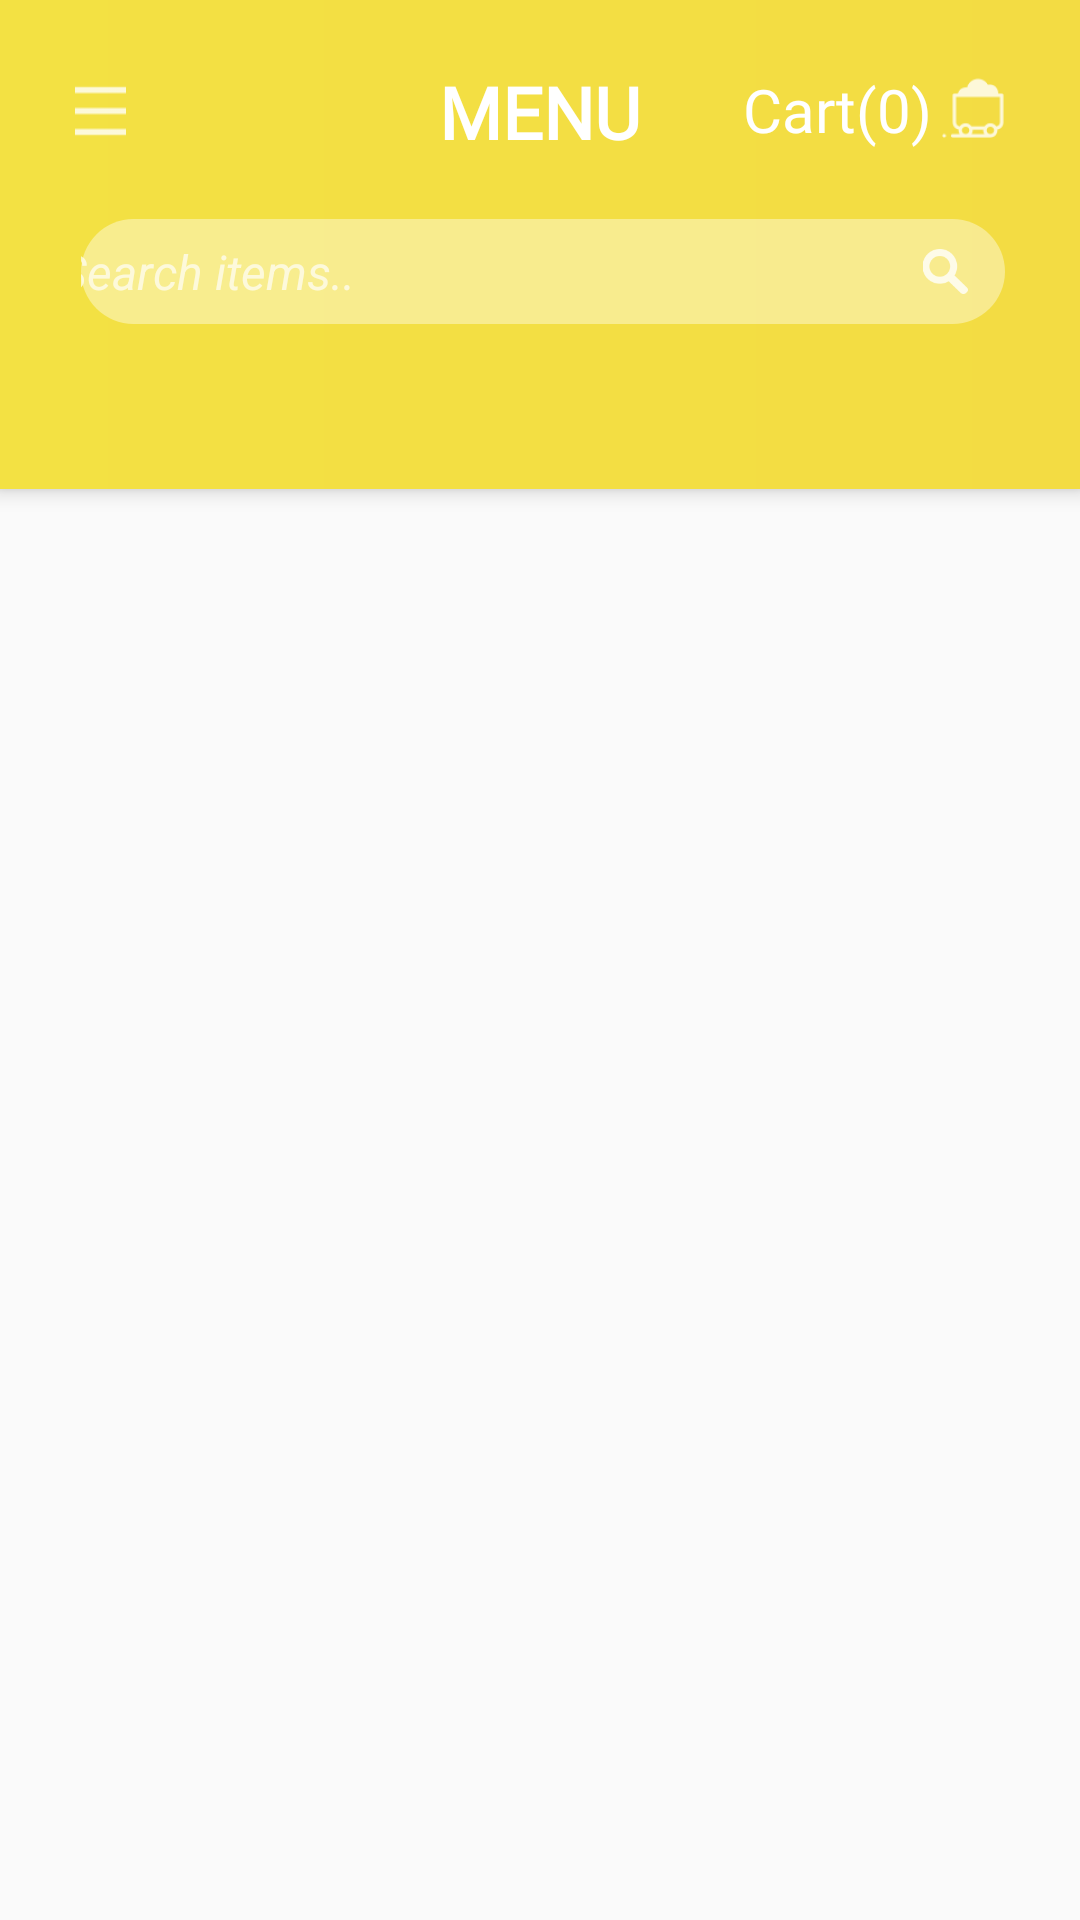

Icon click points for this 1080px x 1920px phone screenshot, format point (x, y):
menu: point (100, 111)
searchicon: point (945, 271)
